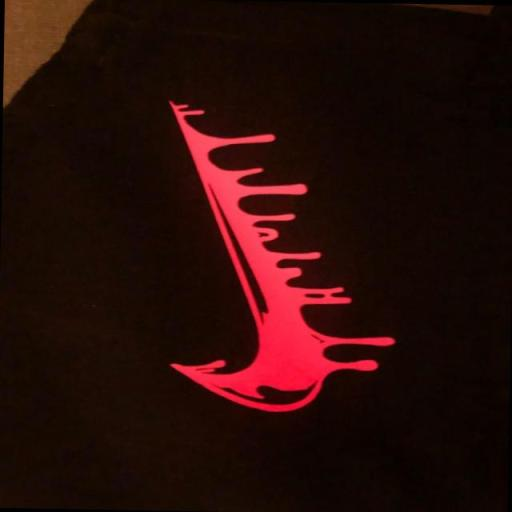Nike: (165, 96, 327, 407)
